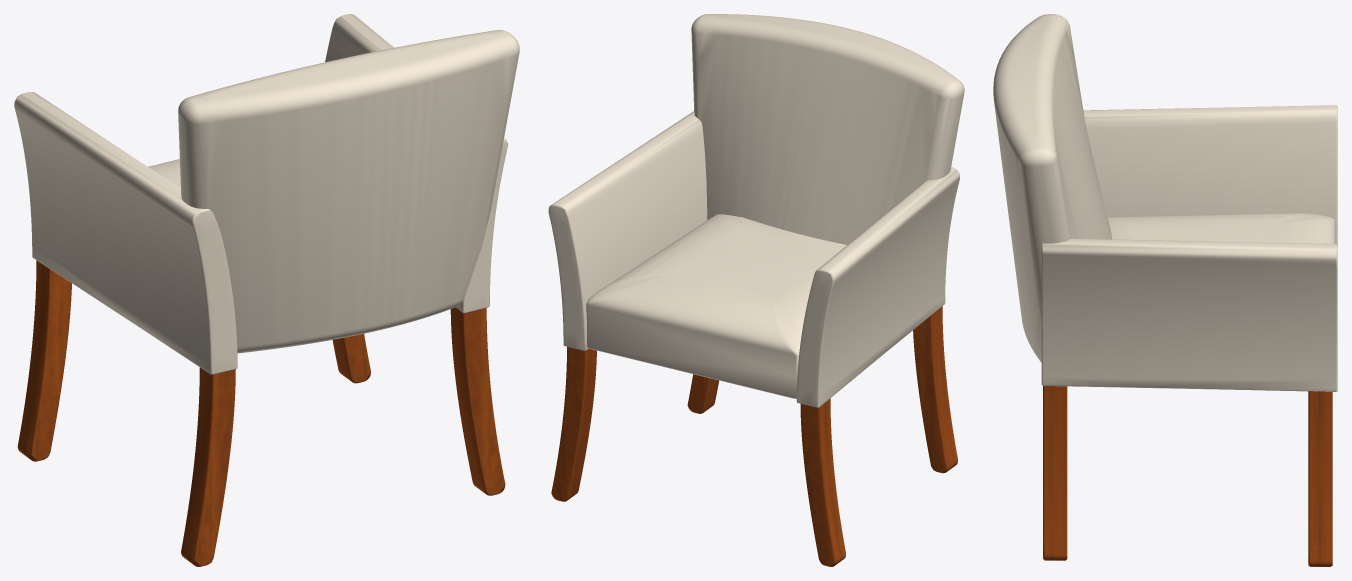
3 views of the same model, side by side, from view 1: azimuth 30°, elevation 25°; view 2: azimuth 150°, elevation 25°; view 3: azimuth 270°, elevation 25° (orthographic). The views are drawn at different scales.
Visible parts, largest first — view 1: mesh7_mesh7-geometry, mesh1_mesh1-geometry, mesh3_mesh3-geometry, mesh2_mesh2-geometry, mesh6_mesh6-geometry, mesh4_mesh4-geometry, mesh5_mesh5-geometry; view 2: mesh7_mesh7-geometry, mesh8_mesh8-geometry, mesh1_mesh1-geometry, mesh4_mesh4-geometry, mesh2_mesh2-geometry, mesh3_mesh3-geometry, mesh5_mesh5-geometry, mesh6_mesh6-geometry; view 3: mesh4_mesh4-geometry, mesh1_mesh1-geometry, mesh7_mesh7-geometry, mesh8_mesh8-geometry, mesh5_mesh5-geometry, mesh6_mesh6-geometry.
Boxes of the visible parts, bbox=[...] form: mesh7_mesh7-geometry: bbox=[178, 30, 519, 353]; mesh1_mesh1-geometry: bbox=[14, 92, 237, 374]; mesh3_mesh3-geometry: bbox=[181, 367, 235, 566]; mesh2_mesh2-geometry: bbox=[17, 260, 71, 461]; mesh6_mesh6-geometry: bbox=[450, 307, 505, 495]; mesh4_mesh4-geometry: bbox=[325, 14, 507, 313]; mesh5_mesh5-geometry: bbox=[332, 333, 370, 383]; mesh7_mesh7-geometry: bbox=[691, 14, 964, 244]; mesh8_mesh8-geometry: bbox=[586, 214, 846, 398]; mesh1_mesh1-geometry: bbox=[796, 167, 959, 407]; mesh4_mesh4-geometry: bbox=[548, 111, 707, 350]; mesh2_mesh2-geometry: bbox=[800, 398, 845, 566]; mesh3_mesh3-geometry: bbox=[913, 306, 957, 473]; mesh5_mesh5-geometry: bbox=[551, 346, 596, 501]; mesh6_mesh6-geometry: bbox=[687, 374, 718, 413]; mesh4_mesh4-geometry: bbox=[1041, 238, 1337, 391]; mesh1_mesh1-geometry: bbox=[1083, 105, 1337, 244]; mesh7_mesh7-geometry: bbox=[993, 14, 1111, 362]; mesh8_mesh8-geometry: bbox=[1107, 213, 1335, 243]; mesh5_mesh5-geometry: bbox=[1308, 391, 1332, 566]; mesh6_mesh6-geometry: bbox=[1043, 386, 1067, 560].
Size of the model in its own units: 0.5201 by 0.6873 by 0.507.
3 materials, 1 textured.
